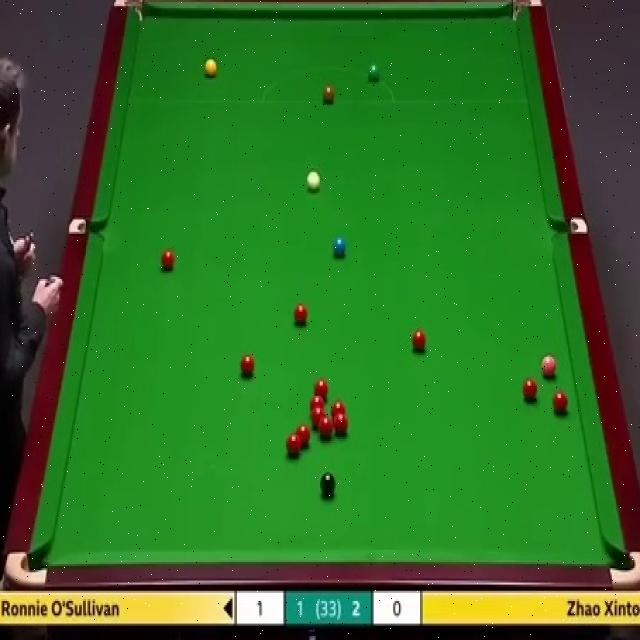black-ball: (319, 472, 336, 494)
blue-ball: (332, 236, 348, 258)
brown-ball: (322, 84, 334, 104)
green-ball: (368, 61, 380, 82)
pink-ball: (540, 354, 558, 378)
red-ball: (522, 375, 538, 402), (293, 302, 309, 327), (552, 389, 568, 414), (410, 328, 427, 351), (334, 411, 349, 436), (287, 432, 302, 457), (296, 423, 310, 448), (160, 250, 175, 272), (240, 353, 254, 375), (314, 378, 328, 400), (319, 416, 333, 438), (311, 407, 325, 428), (308, 395, 324, 413), (331, 399, 347, 415)
white-ball: (306, 170, 321, 192)
yellow-ball: (204, 58, 217, 80)
